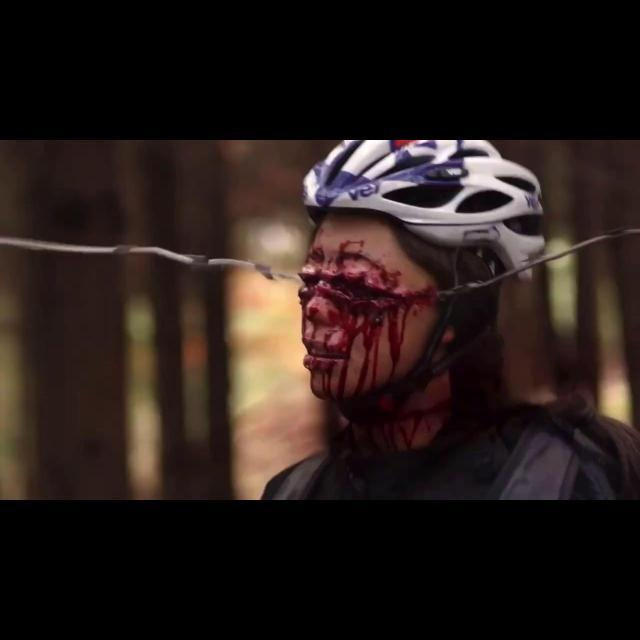blood: (300, 239, 440, 404), (347, 372, 452, 451)
